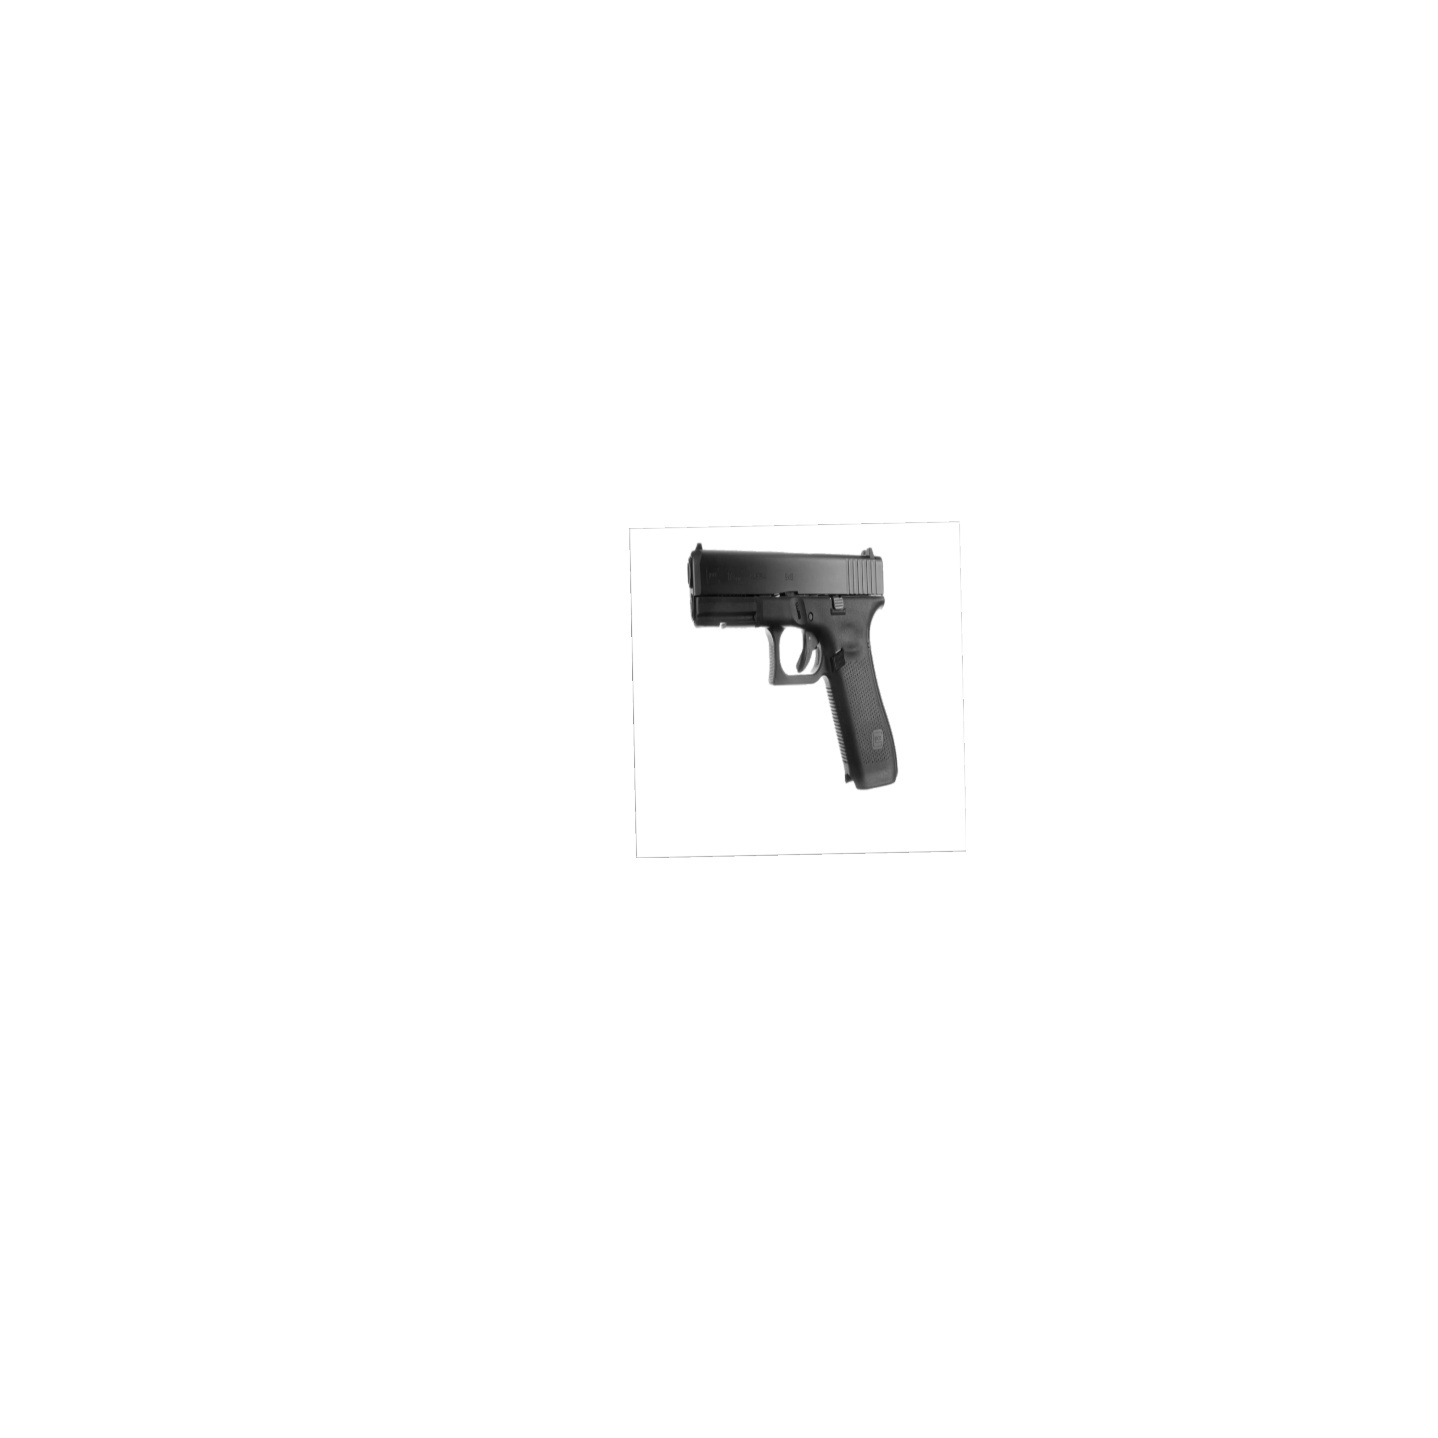gun: (679, 539, 923, 797)
